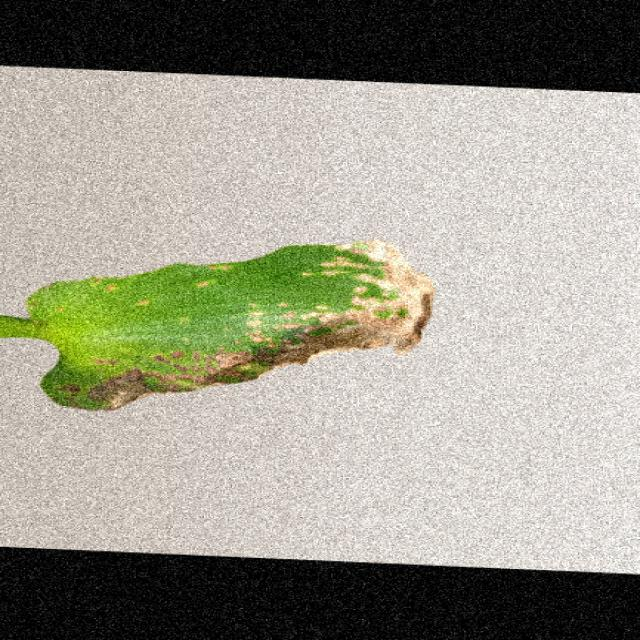daun berpenyakit bercak: (0, 240, 431, 410)
